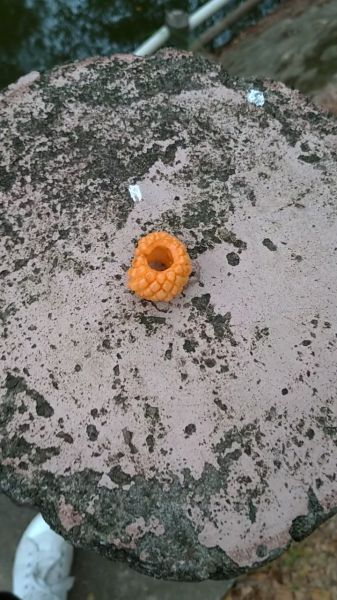eggs: (124, 224, 195, 304)
